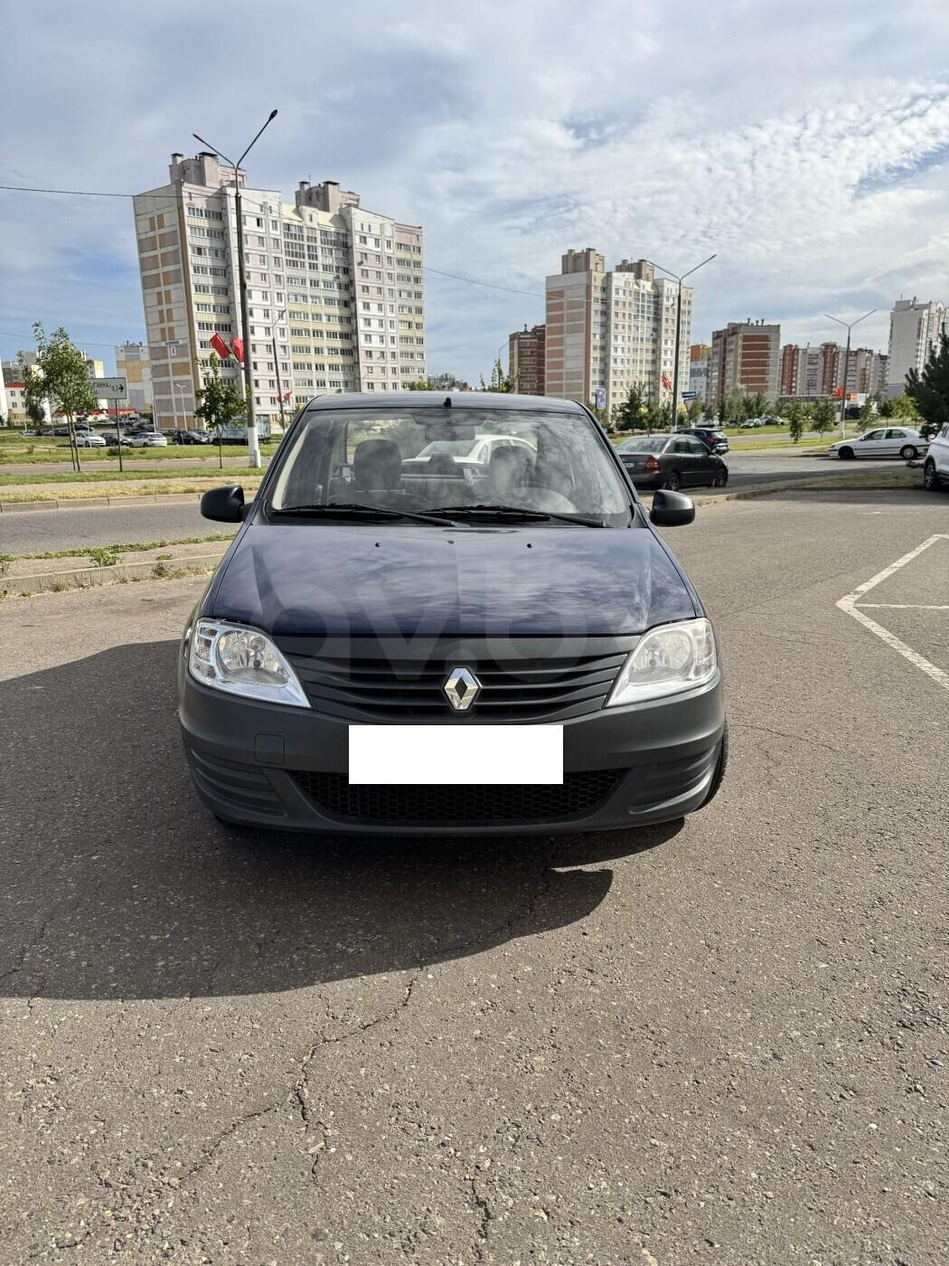Logan_2008-2015: (175, 380, 748, 852)
